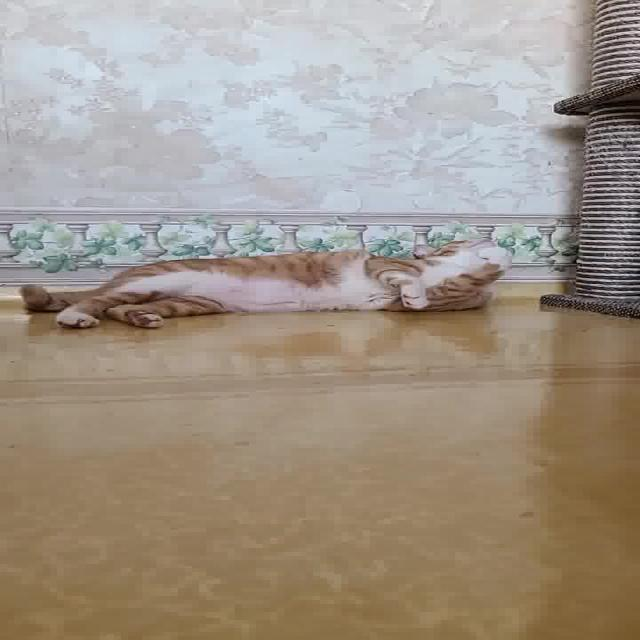cat: (10, 237, 517, 331)
